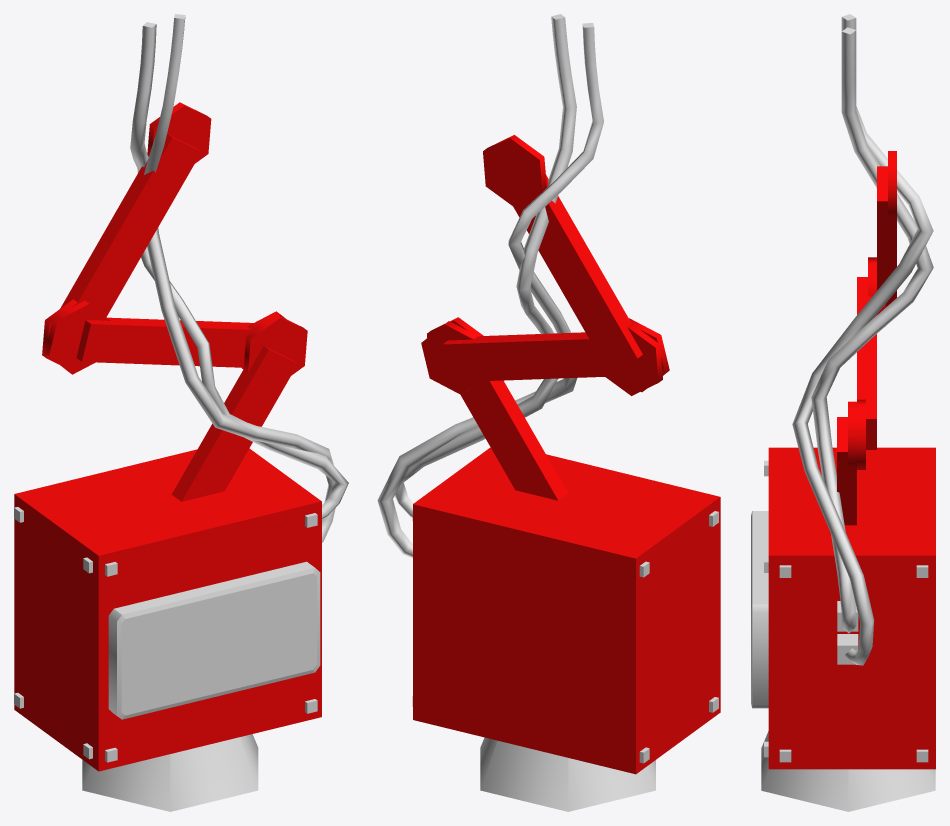
Rendered from scanner_device.FBX.
3 views of the same model, side by side, from view 1: azimuth 30°, elevation 25°; view 2: azimuth 150°, elevation 25°; view 3: azimuth 270°, elevation 25° (orthographic).
Visible parts, largest first — view 1: scanner, scanner arrows button, scanner_arm02, scanner_arm, scanner optic, wire01, wire_02, scanner arrows, scanner screw; view 2: scanner, scanner_arm02, scanner_arm, scanner optic, wire01, wire_02; view 3: scanner, wire01, wire_02, scanner optic, scanner_arm02, scanner arrows button, scanner_arm, scanner screw.
Part boxes in pixels (x1,y1,x2,y2): scanner: [14, 448, 321, 771]; scanner arrows button: [108, 561, 320, 719]; scanner_arm02: [42, 102, 307, 501]; scanner_arm: [44, 300, 285, 374]; scanner optic: [82, 734, 258, 811]; wire01: [130, 22, 335, 542]; wire_02: [141, 14, 348, 519]; scanner arrows: [131, 598, 308, 693]; scanner screw: [14, 507, 317, 762]; scanner: [413, 447, 720, 774]; scanner_arm02: [427, 135, 662, 500]; scanner_arm: [421, 318, 669, 394]; scanner optic: [480, 737, 655, 811]; wire01: [377, 23, 603, 558]; wire_02: [395, 14, 576, 518]; scanner: [768, 447, 935, 769]; wire01: [792, 14, 933, 665]; wire_02: [811, 27, 933, 633]; scanner optic: [761, 731, 935, 811]; scanner_arm02: [837, 151, 896, 525]; scanner arrows button: [751, 511, 768, 708]; scanner_arm: [857, 257, 876, 469]; scanner screw: [764, 460, 928, 762].
Size of the model in its own units: 1435 by 792 by 3479.
